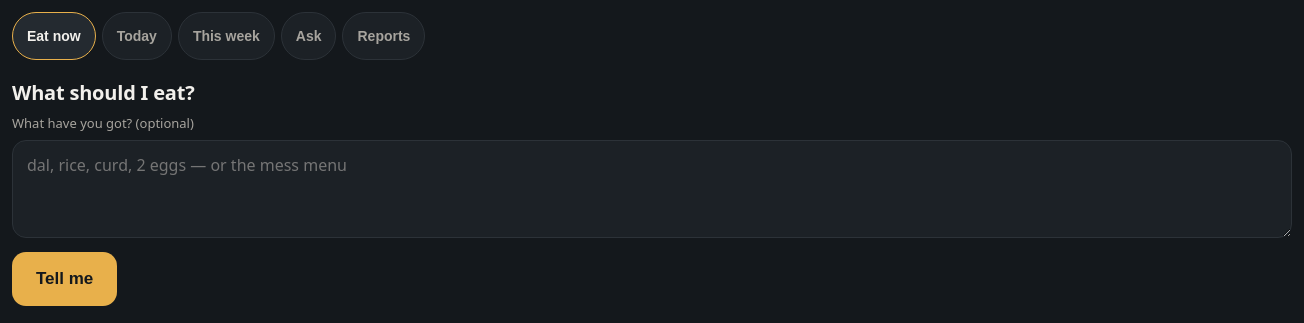
Scenario: Coach › a review it does have is announced rather than appearing in silence
Click the button "This week" at [226, 36], box 178,12 -> 275,60
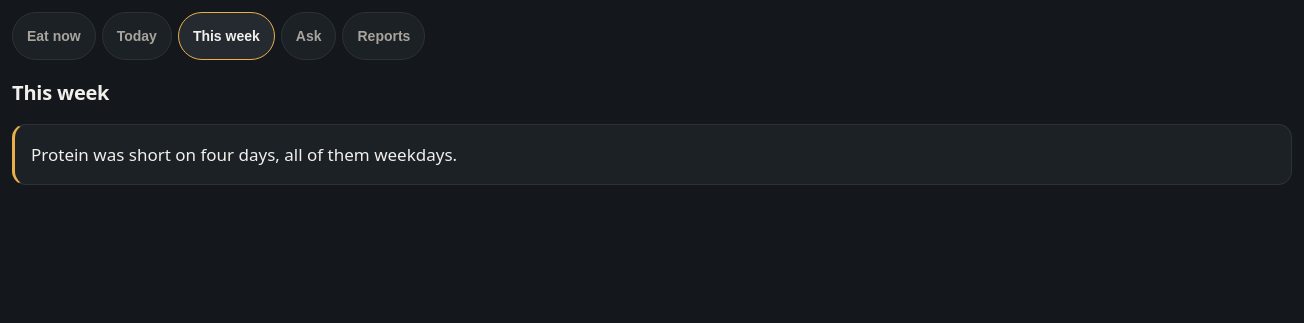
Expected: the message shows "short on four days", 31,143 -> 457,166
